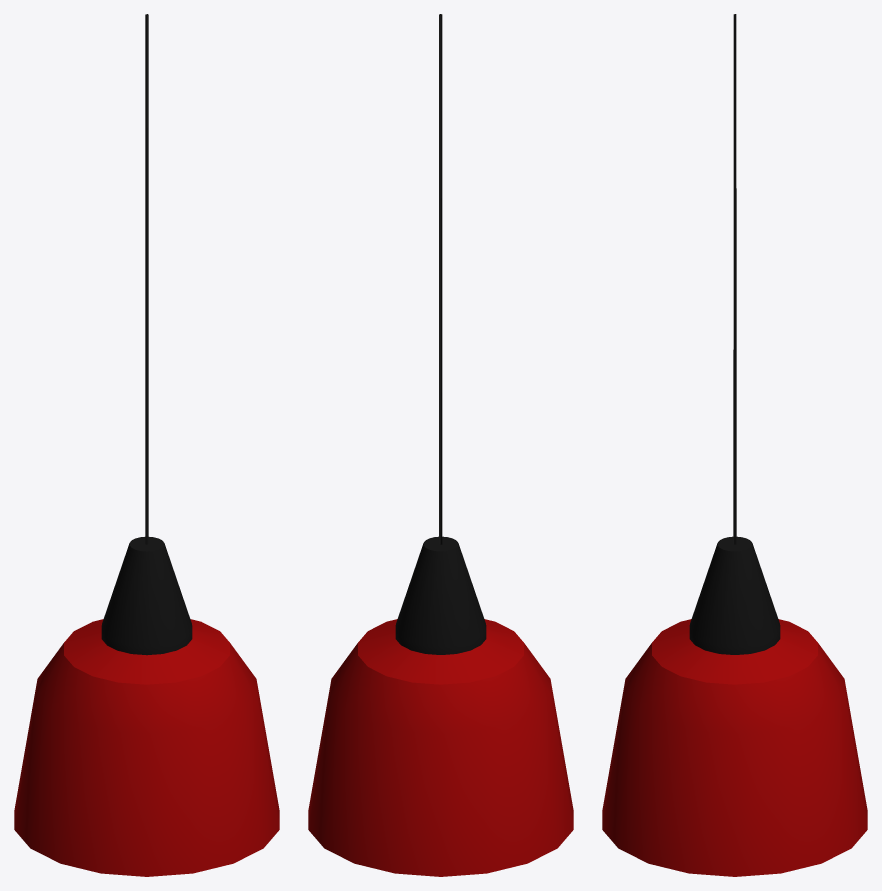
File: Lamp 1.FBX
The picture shows the model from 3 angles, left to right: view 1: azimuth 30°, elevation 25°; view 2: azimuth 150°, elevation 25°; view 3: azimuth 270°, elevation 25°; orthographic projection.
Parts seen in each view (by area): view 1: lamp 1; view 2: lamp 1; view 3: lamp 1.
Boxes of the visible parts, x1,y1,x2,y2 form: lamp 1: [14, 14, 279, 876]; lamp 1: [308, 14, 573, 876]; lamp 1: [602, 14, 867, 876].
Size of the model in its own units: 29.03 by 95.8 by 28.59.
2 materials, 1 textured.
